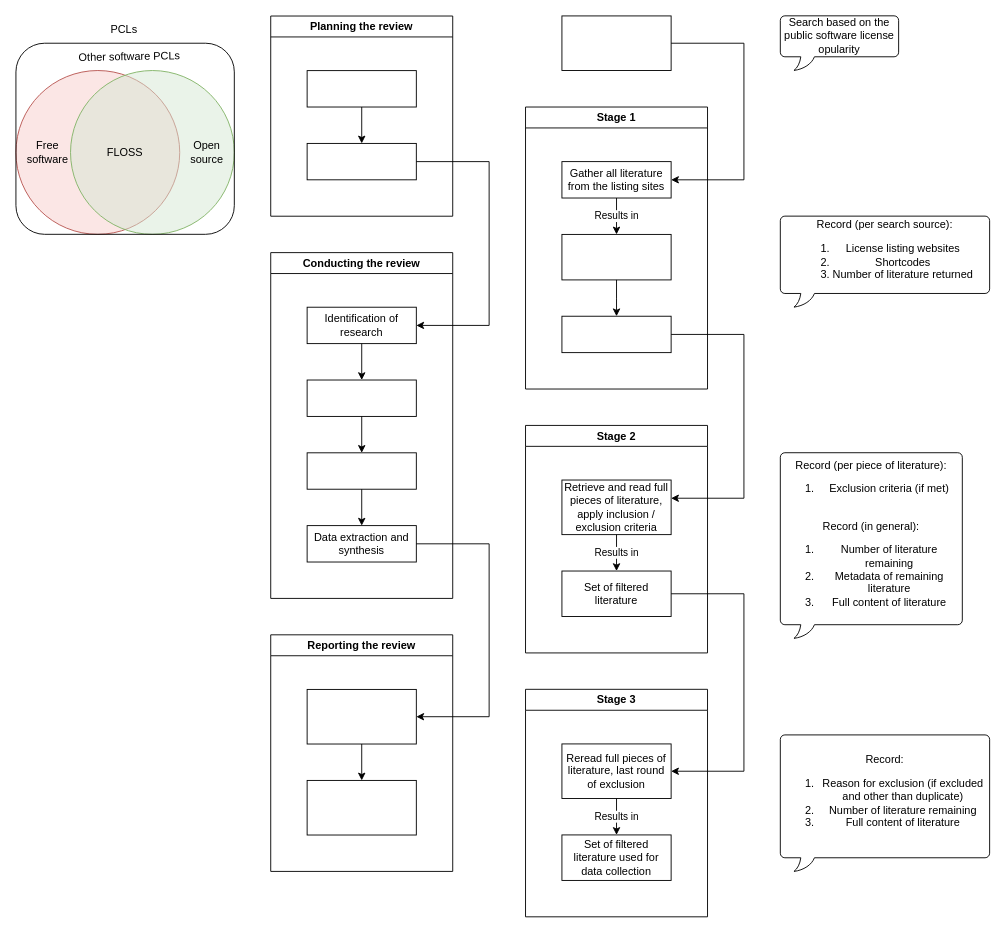
Image size: 1006x934. Some labels were removed from this diagram. The centre of each missing label's shape, as x and y in pixels:
"Developing a review protocol" belongs at point (361, 161).
"Formatting and evaluating the report" belongs at point (361, 807).
"Manual search in an effort to gather the first license listing websites" belongs at point (616, 43).
"Merge results from searches, remove duplicates" belongs at point (616, 257).
"Selection of studies" belongs at point (361, 397).
"Set of potentially relevant literature" belongs at point (616, 334).
"Specifying dissemination methods" belongs at point (361, 716).
"Specifying research question(s)" belongs at point (361, 88).
"Study quality assesment" belongs at point (361, 470).
